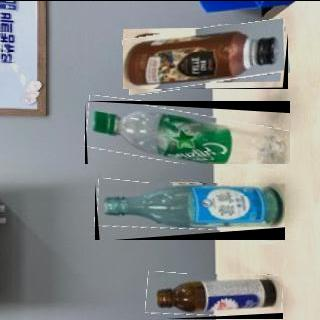bottle: (85, 100, 291, 164), (95, 182, 286, 240), (123, 23, 290, 89), (146, 290, 284, 302)
